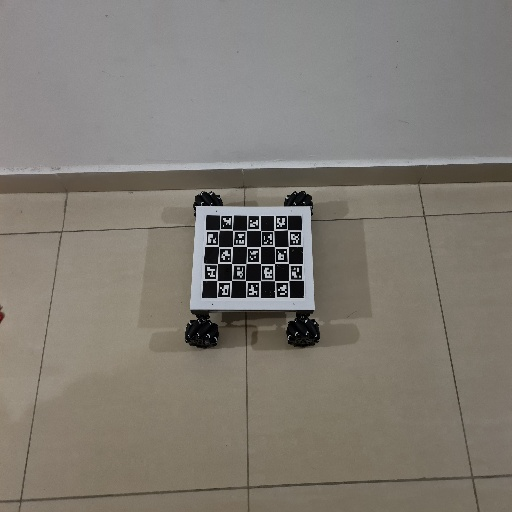Omniwheel: (184, 190, 321, 351)
